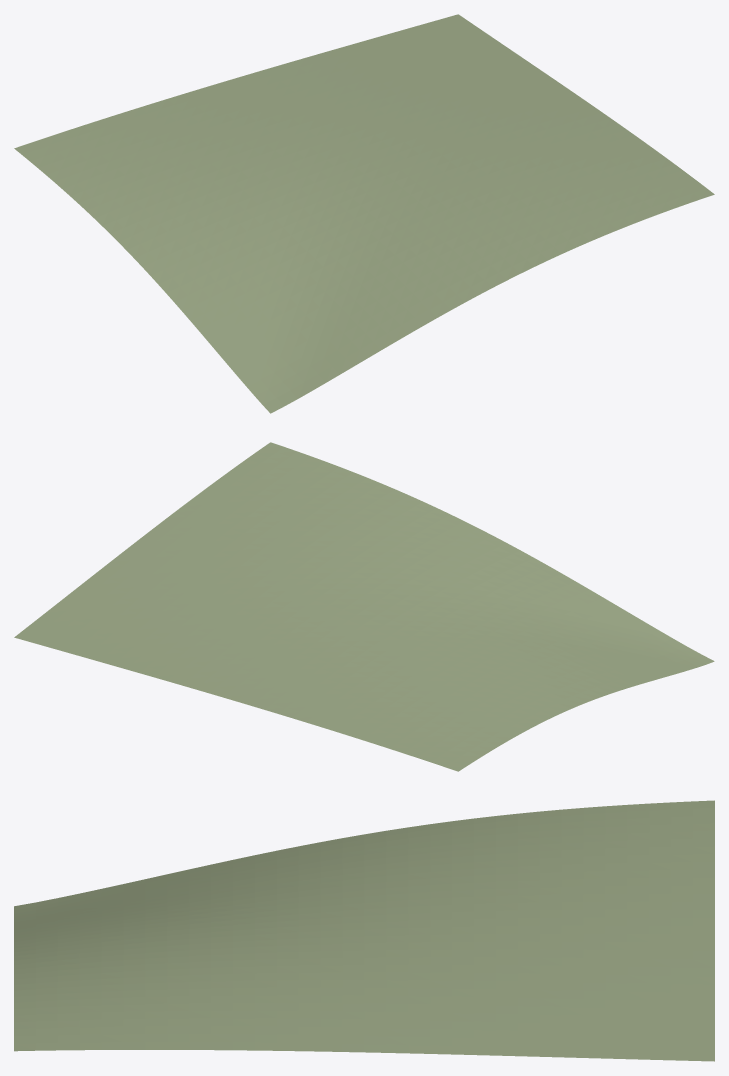
File: expanse-8-7.glb
3 renders of one model, top to bottom at view 1: azimuth 30°, elevation 25°; view 2: azimuth 150°, elevation 25°; view 3: azimuth 270°, elevation 25°, orthographic. The views are drawn at different scales.
Parts seen in each view (by area): view 1: expanse-8-7; view 2: expanse-8-7; view 3: expanse-8-7.
Boxes of the visible parts, x1=… form: expanse-8-7: x1=14, y1=14, x2=714, y2=413; expanse-8-7: x1=14, y1=442, x2=714, y2=771; expanse-8-7: x1=14, y1=800, x2=714, y2=1061.
Size of the model in its own units: 256 by 61.53 by 256.
